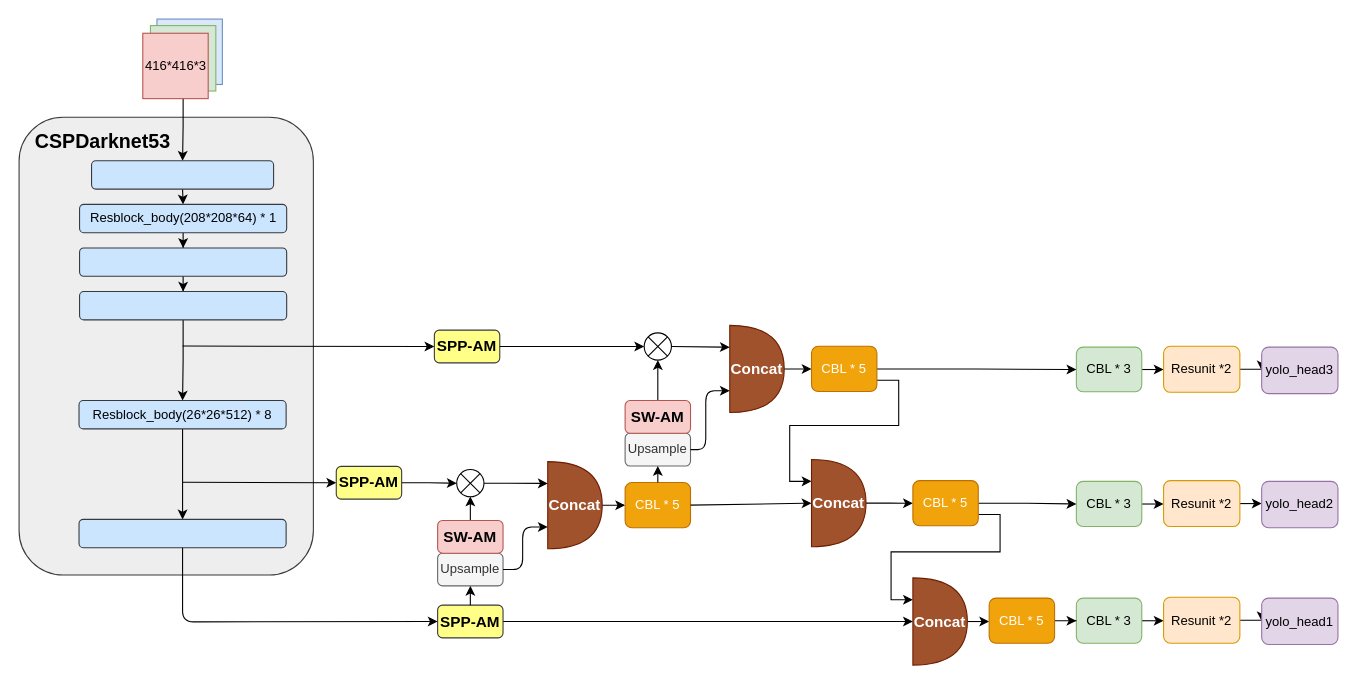
This 1357x685 diagram has some shape labels left out. The shapes that lost their labels are listed below. From the top down, each one's box as (x1, y1, x2, y2) in pixels, then its label:
(90, 160, 274, 189): Conv_BN_Mish(416*416*32)
(78, 247, 287, 276): Resblock_body(104*104*128) * 2
(78, 290, 287, 320): Resblock_body(52*52*256) * 8
(78, 518, 286, 548): Resblock_body(13*13*1024) * 4
